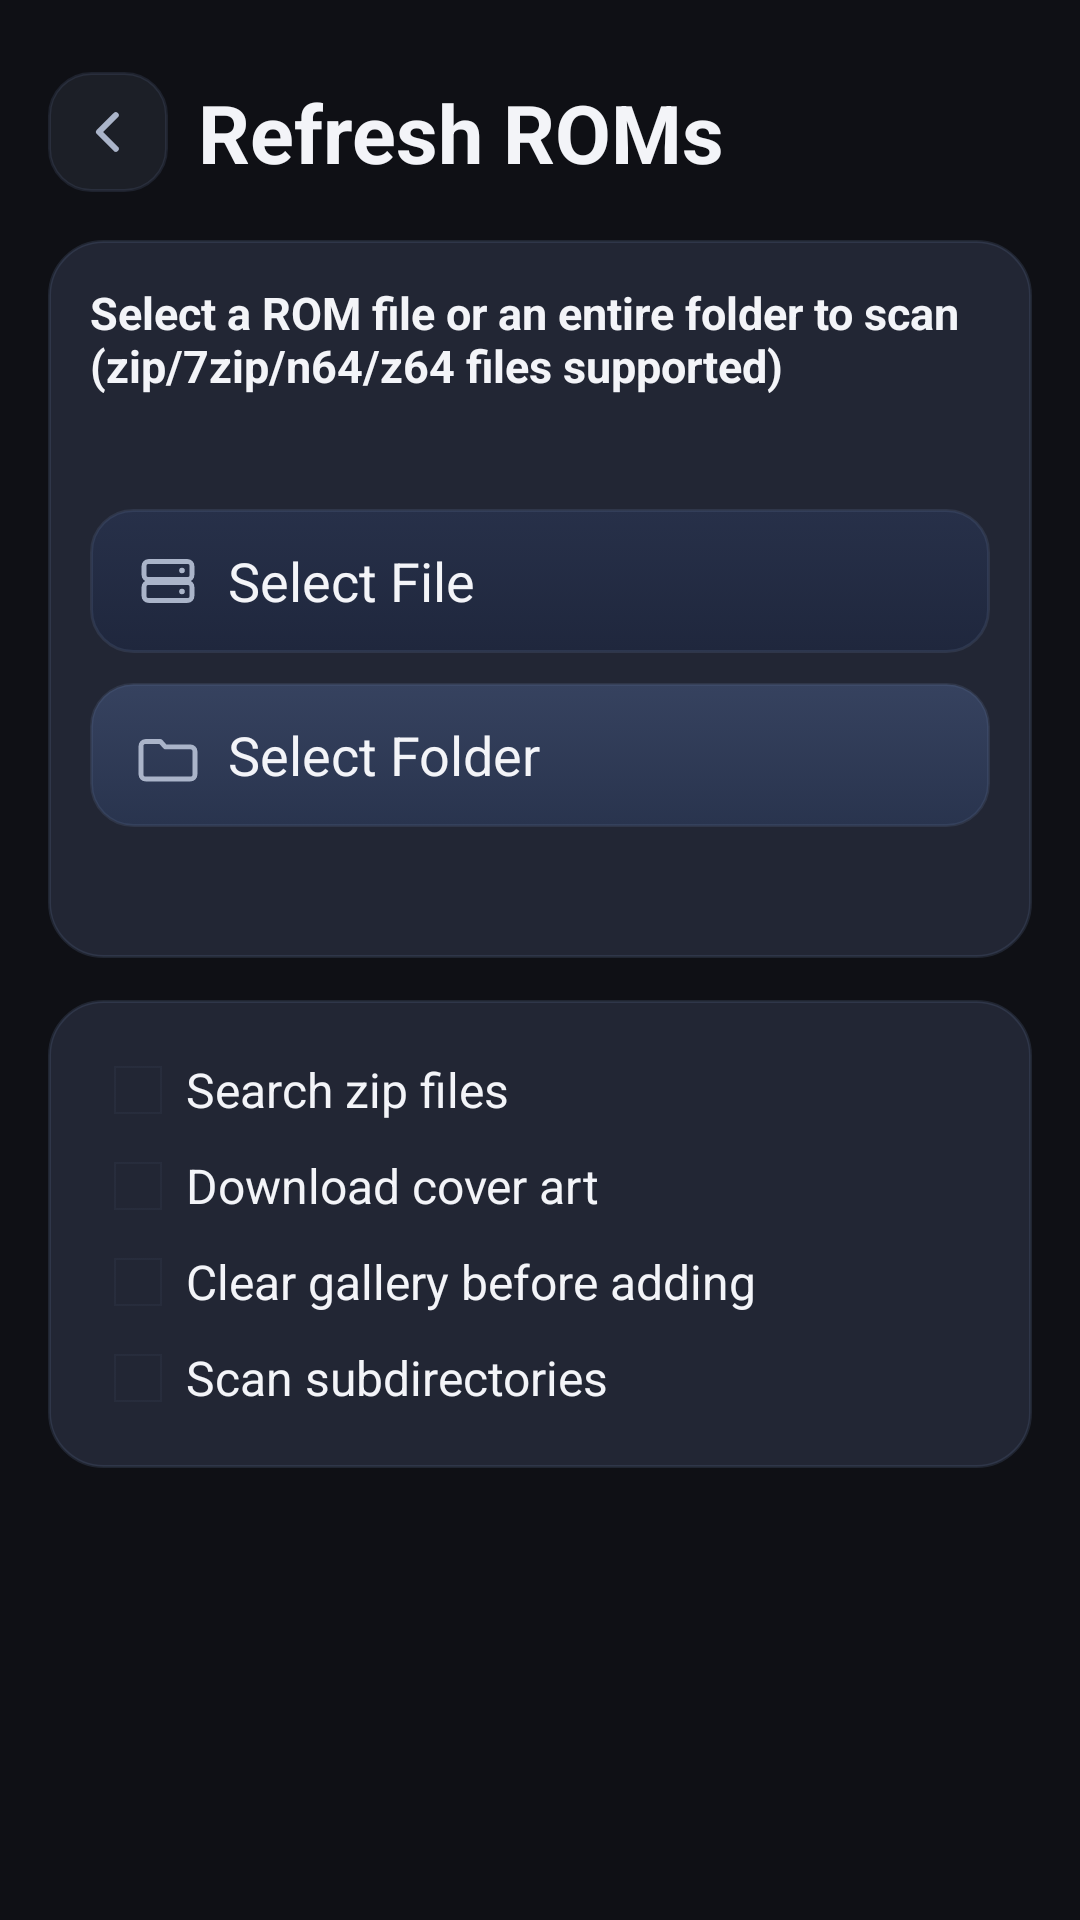

Icons on this 1080 × 1920 Android screen, each with the point to tap as (x=x, y=y):
Back: (x=108, y=132)
